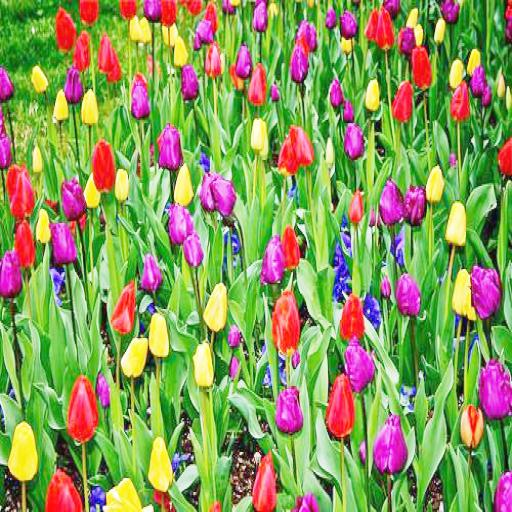tulip: (66, 374, 100, 444), (269, 289, 303, 354), (324, 371, 356, 435), (9, 420, 37, 484), (104, 478, 154, 512), (111, 278, 138, 340), (47, 467, 84, 512), (147, 435, 177, 488), (339, 294, 367, 343), (375, 180, 406, 224), (9, 166, 36, 215), (408, 44, 436, 88), (291, 117, 314, 169), (449, 195, 469, 254), (460, 403, 484, 452), (49, 220, 78, 260), (12, 217, 37, 263), (391, 74, 414, 124), (157, 124, 183, 168), (90, 140, 114, 187), (146, 312, 171, 357), (204, 282, 227, 328), (191, 342, 213, 390), (245, 59, 266, 106), (54, 11, 78, 52), (375, 3, 395, 51), (128, 78, 152, 118), (59, 178, 85, 214), (451, 78, 470, 123), (203, 37, 223, 78), (426, 164, 445, 203), (97, 29, 114, 71), (283, 223, 300, 264), (349, 188, 365, 229)
